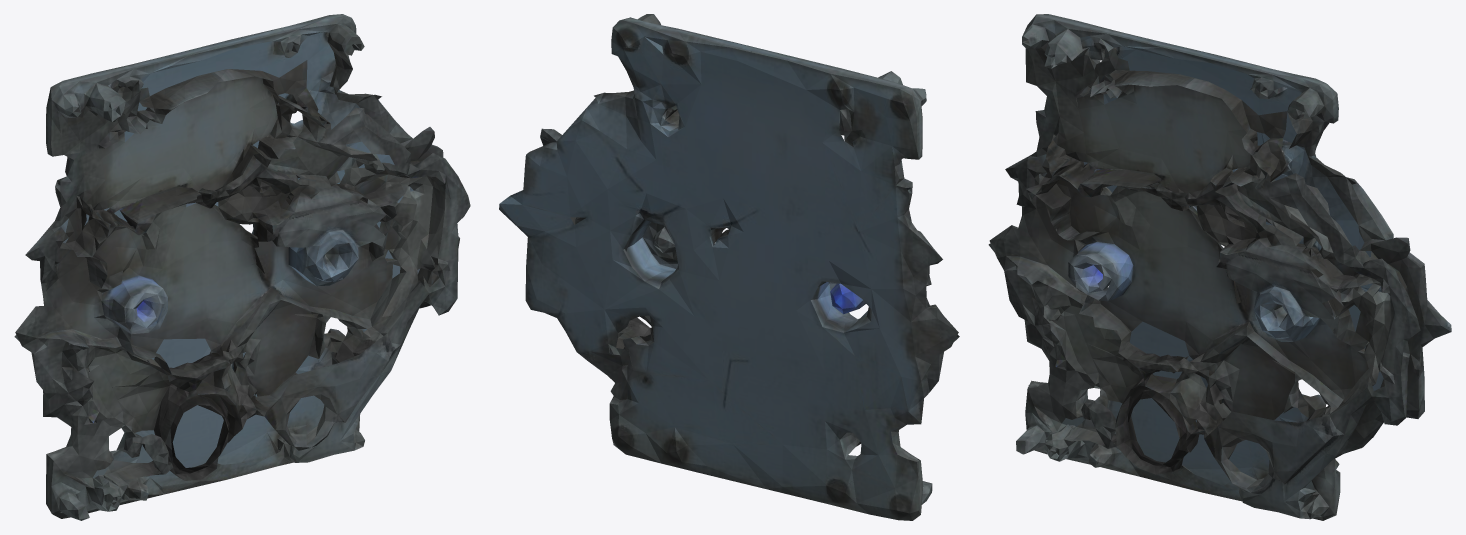
Rendered from bp_bulkhead.glb.
3 views of the same model, side by side, from view 1: azimuth 30°, elevation 25°; view 2: azimuth 150°, elevation 25°; view 3: azimuth 330°, elevation 25° (orthographic).
Parts seen in each view (by area): view 1: world; view 2: world; view 3: world.
Boxes of the visible parts, x1,y1,x2,y2 form: world: (14,14,470,520); world: (499,14,959,520); world: (988,14,1451,520).
Bounding box in the file's own units: 0.9891 × 0.904 × 0.1136.
1 material, 1 textured.
